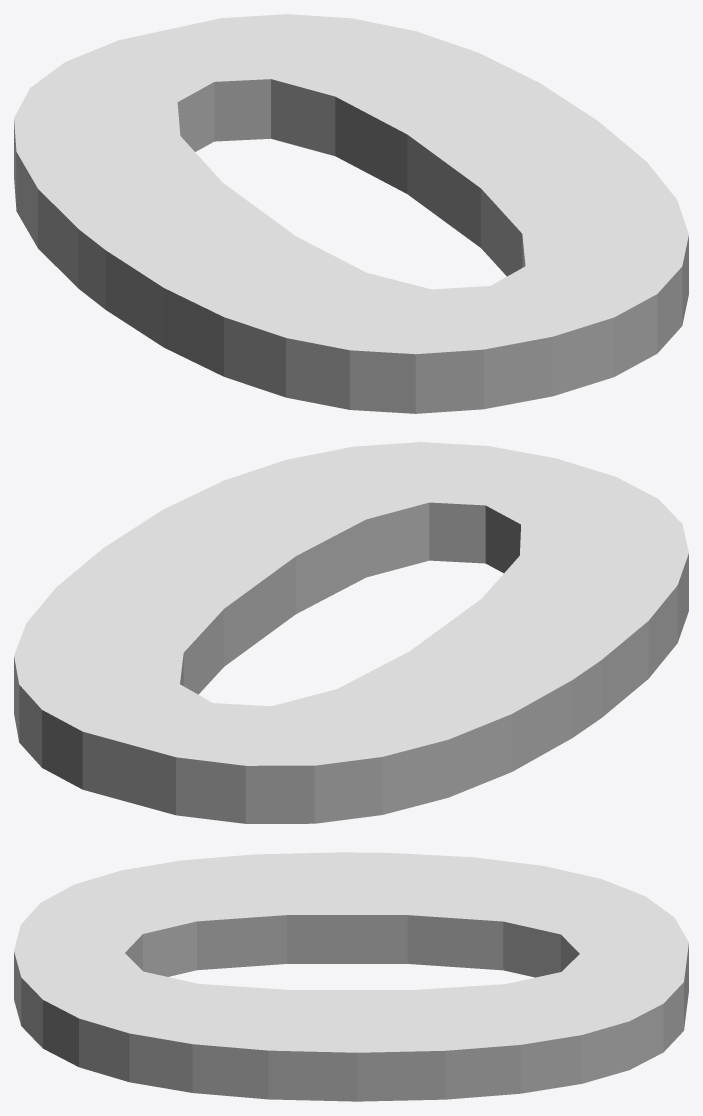
The model's file is shuzi00.FBX.
The picture shows the model from 3 angles, top to bottom: view 1: azimuth 30°, elevation 25°; view 2: azimuth 150°, elevation 25°; view 3: azimuth 270°, elevation 25°; orthographic projection. The views are drawn at different scales.
Parts seen in each view (by area): view 1: shuzi10; view 2: shuzi10; view 3: shuzi10.
Part boxes in pixels (x1,y1,x2,y2): shuzi10: [14, 14, 688, 413]; shuzi10: [14, 442, 688, 823]; shuzi10: [14, 852, 688, 1101].
Bounding box in the file's own units: 78.75 × 8.95 × 112.
